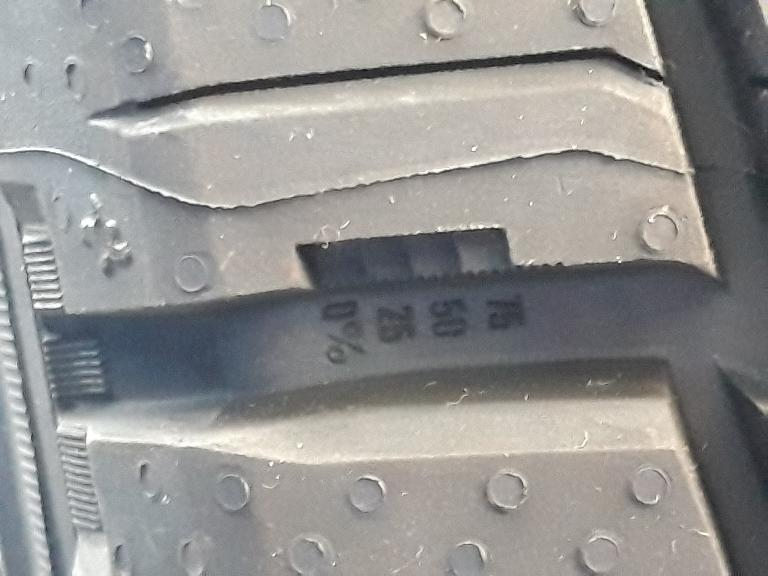temoin:100: (293, 225, 559, 298)
